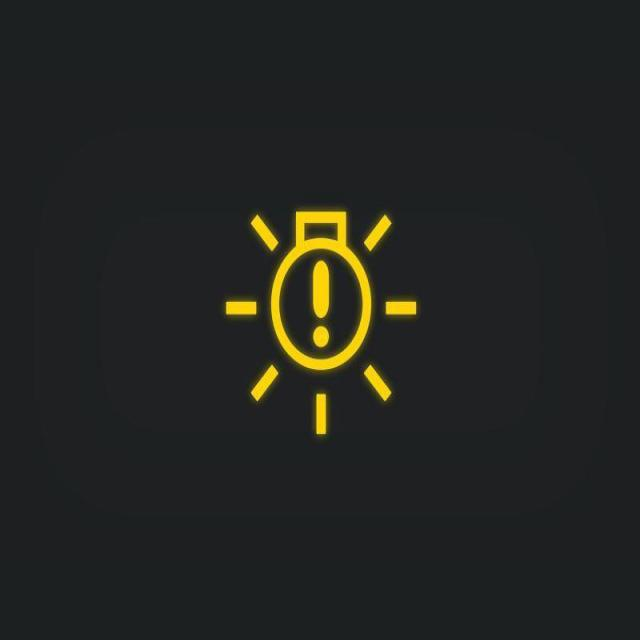kontrolka: (214, 174, 439, 469)
